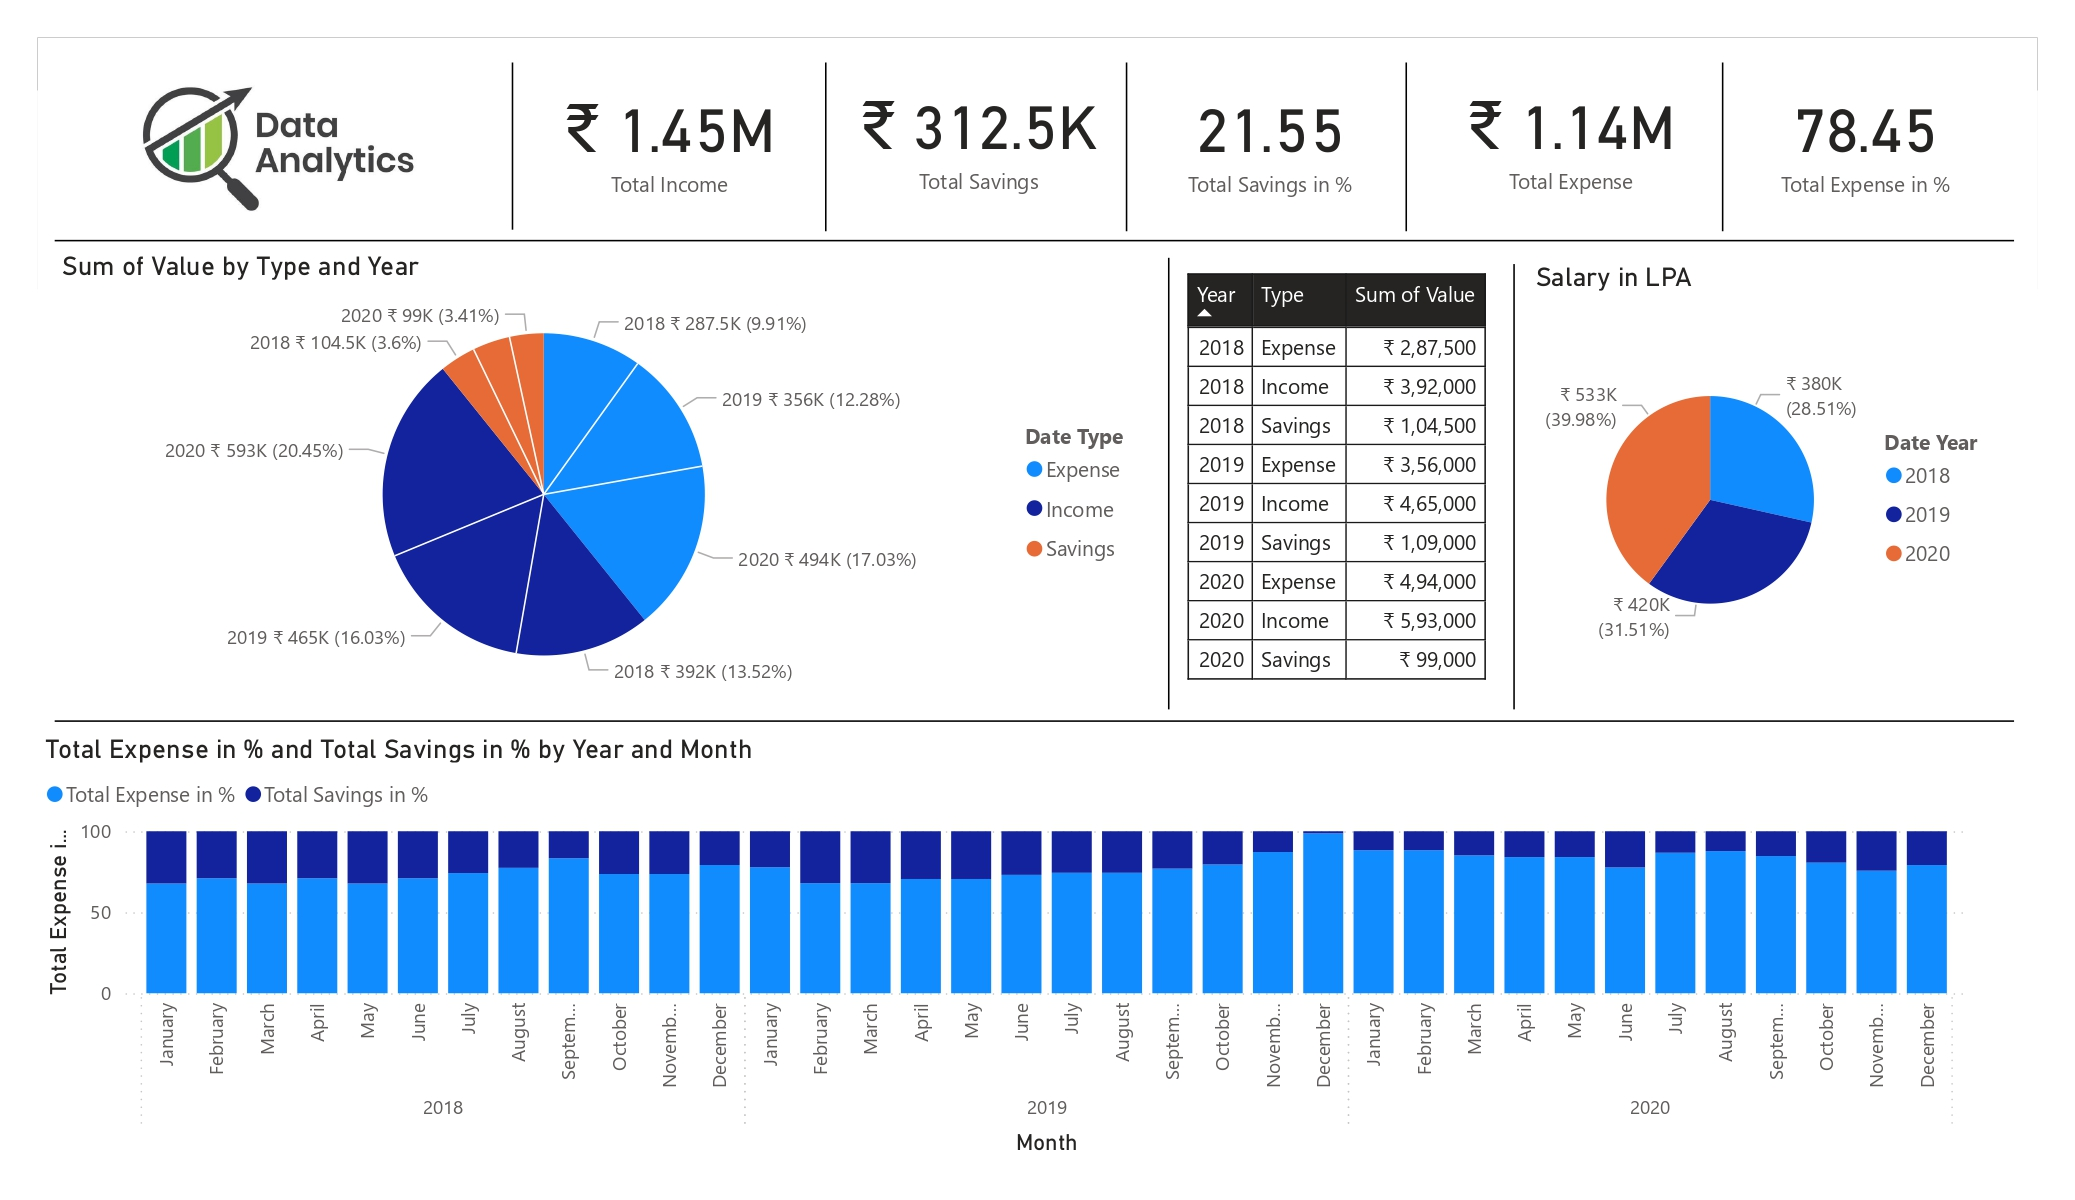

The page's visual inventory and layout, read from the dashboard file:
{"tool":"powerbi","page":{"name":"Overall","canvas":[1280,720],"ordinal":3},"visuals":[{"type":"pieChart","fields":{"Y":["Sum(FinData.Value)"],"Category":["FinData.Type"],"Series":["FinData.Date.Variation.Date Hierarchy.Year"]},"box":[11.2,136.2,706.2,293.8],"z":0},{"type":"tableEx","fields":{"Values":["FinData.Date.Variation.Date Hierarchy.Year","FinData.Type","Sum(FinData.Value)"]},"box":[730,146.2,206.2,280],"z":1000},{"type":"shape","box":[301.2,16,6.2,107.4],"z":2000},{"type":"image","box":[11.2,0,285,132.5],"z":3000},{"type":"card","fields":{"Values":["FinData.Total Income"]},"box":[307.5,16.2,193.8,96.2],"z":4000},{"type":"card","fields":{"Values":["FinData.Total Expense in %"]},"box":[1086.2,16.2,167.5,96.2],"z":5000},{"type":"card","fields":{"Values":["FinData.Total Savings in %"]},"box":[705,16.2,167.5,96.2],"z":6000},{"type":"card","fields":{"Values":["FinData.Total Savings"]},"box":[516.2,16.2,172.5,93.8],"z":7000},{"type":"card","fields":{"Values":["FinData.Total Expense"]},"box":[895,16.2,172.5,93.8],"z":8000},{"type":"shape","box":[501.2,16.2,6.2,107.5],"z":9000},{"type":"shape","box":[688.8,16.2,16.2,107.5],"z":10000},{"type":"shape","box":[872.5,16.2,6.2,107.5],"z":11000},{"type":"shape","box":[1071.2,16.2,15,107.5],"z":12000},{"type":"shape","box":[11.2,123.8,1253.8,12.5],"z":13000},{"type":"shape","box":[717.5,141.2,12.5,288.8],"z":14000},{"type":"shape","box":[936.2,145,17.5,285],"z":15000},{"type":"shape","box":[11.2,430,1253.8,15],"z":16000},{"type":"pieChart","title":"Salary in LPA","fields":{"Category":["FinData.Date.Variation.Date Hierarchy.Year"],"Y":["FinData.Total Salary"]},"box":[953.8,142.5,311.2,287.5],"z":17000},{"type":"columnChart","fields":{"Category":["FinData.Date.Variation.Date Hierarchy.Year","FinData.Date.Variation.Date Hierarchy.Month"],"Y":["FinData.Total Expense in %","FinData.Total Savings in %"]},"box":[0,445,1240,275],"z":18000}]}

Visuals, with their boxes on the page's 1280x720 design canvas (x1, y1, x2, y2). These are canvas units, not pixel positions in the 2075x1200 screenshot, which may show the page scaled, cropped or inside an application window:
pieChart - Sum(FinData.Value) x FinData.Type: select_region(11, 136, 717, 430)
tableEx - FinData.Date.Variation.Date Hierarchy.Year x FinData.Type: select_region(730, 146, 936, 426)
shape: select_region(301, 16, 307, 123)
image: select_region(11, 0, 296, 132)
card - FinData.Total Income: select_region(308, 16, 501, 112)
card - FinData.Total Expense in %: select_region(1086, 16, 1254, 112)
card - FinData.Total Savings in %: select_region(705, 16, 872, 112)
card - FinData.Total Savings: select_region(516, 16, 689, 110)
card - FinData.Total Expense: select_region(895, 16, 1068, 110)
shape: select_region(501, 16, 507, 124)
shape: select_region(689, 16, 705, 124)
shape: select_region(872, 16, 879, 124)
shape: select_region(1071, 16, 1086, 124)
shape: select_region(11, 124, 1265, 136)
shape: select_region(718, 141, 730, 430)
shape: select_region(936, 145, 954, 430)
shape: select_region(11, 430, 1265, 445)
"Salary in LPA" pieChart: select_region(954, 142, 1265, 430)
columnChart - FinData.Date.Variation.Date Hierarchy.Year x FinData.Date.Variation.Date Hierarchy.Month: select_region(0, 445, 1240, 720)
